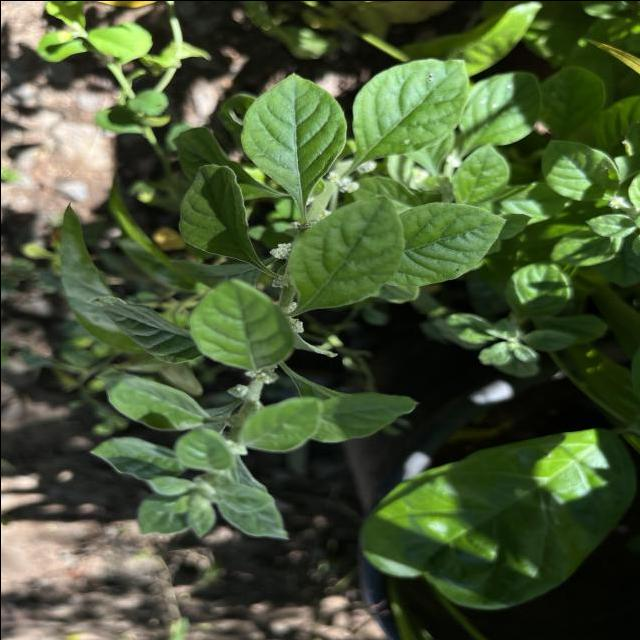Aerva lanata: (236, 68, 350, 212), (382, 199, 508, 288), (175, 160, 270, 274)
